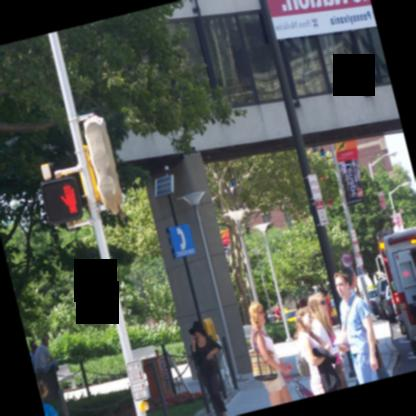handbag: (248, 330, 277, 382), (339, 293, 357, 353), (296, 351, 310, 378)
